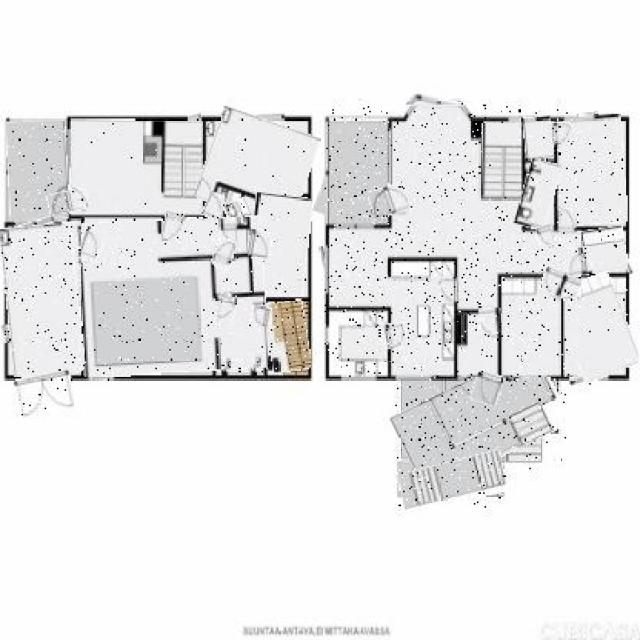door: (17, 371, 75, 420), (369, 184, 409, 216), (540, 270, 580, 298), (472, 370, 502, 404), (48, 190, 88, 212), (80, 229, 105, 263), (566, 248, 591, 275), (214, 240, 235, 271), (249, 232, 271, 258), (163, 212, 185, 238), (216, 296, 236, 324), (480, 309, 502, 334), (385, 323, 406, 349), (203, 194, 225, 218), (552, 122, 571, 144), (440, 277, 458, 298), (251, 308, 271, 326), (537, 224, 554, 244), (557, 208, 572, 230)
window: (405, 94, 469, 120), (381, 126, 397, 191), (320, 244, 335, 296), (569, 369, 609, 385), (12, 218, 54, 232), (1, 246, 12, 292), (563, 114, 599, 126), (242, 114, 284, 123), (506, 114, 536, 125), (335, 220, 371, 229), (509, 374, 546, 380), (1, 325, 12, 343), (91, 374, 114, 380), (625, 255, 632, 274), (189, 114, 202, 123), (326, 330, 331, 348), (458, 376, 471, 382), (397, 376, 434, 378)
zone: (325, 105, 577, 377), (80, 218, 266, 376), (396, 363, 566, 477), (200, 112, 314, 223), (70, 120, 202, 214), (4, 223, 82, 375), (320, 116, 394, 227), (552, 116, 626, 227), (558, 276, 634, 378), (496, 274, 566, 378), (248, 195, 310, 297), (8, 122, 68, 220), (399, 456, 506, 510), (266, 300, 309, 372), (518, 160, 558, 231), (482, 123, 520, 197), (521, 162, 557, 226), (582, 228, 626, 274), (523, 115, 557, 158), (523, 117, 554, 158), (226, 198, 252, 228)
